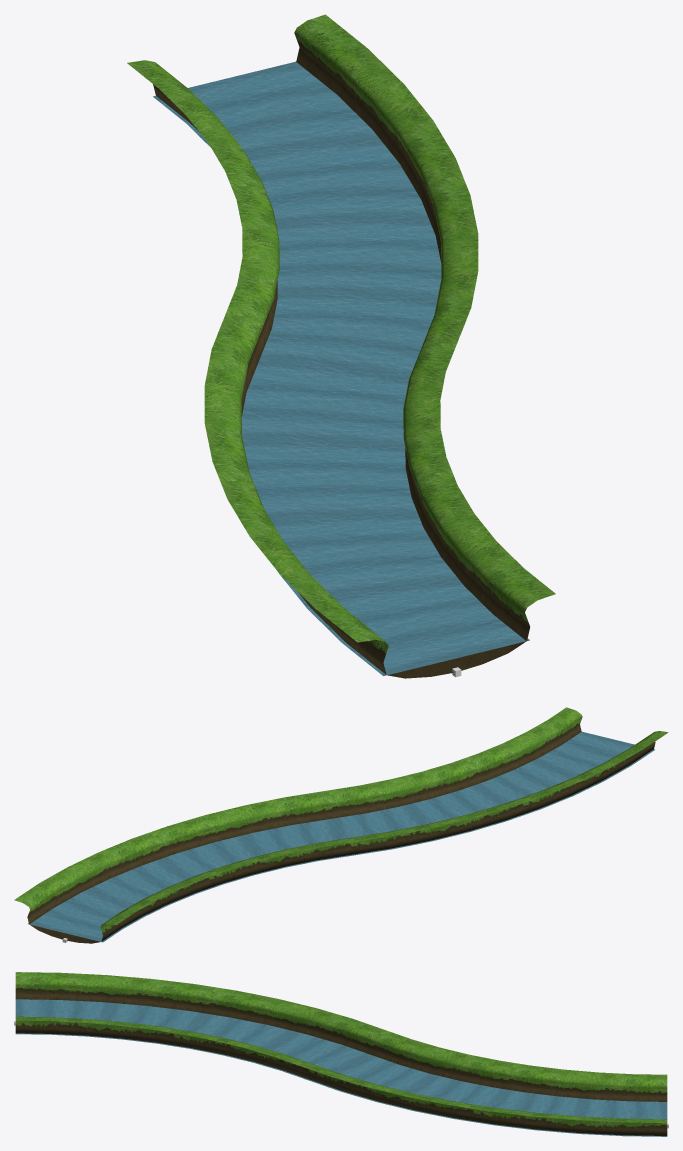
Rendered from roadShift.right3.fbx.
The picture shows the model from 3 angles, top to bottom: view 1: azimuth 30°, elevation 25°; view 2: azimuth 150°, elevation 25°; view 3: azimuth 270°, elevation 25°; orthographic projection. The views are drawn at different scales.
Parts seen in each view (by area): view 1: MESH roadShift.right3; view 2: MESH roadShift.right3; view 3: MESH roadShift.right3.
Boxes of the visible parts, box(x1,y1,x2,y2) form: MESH roadShift.right3: box(127, 14, 555, 678); MESH roadShift.right3: box(14, 707, 668, 943); MESH roadShift.right3: box(15, 972, 667, 1136).
Size of what is drawn, in the model's own units: 5271 by 463 by 9650.
